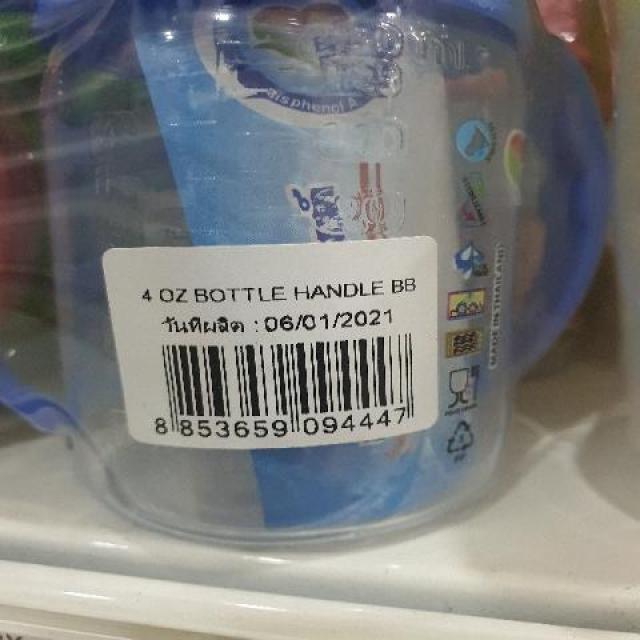Barcode: (138, 328, 422, 440)
